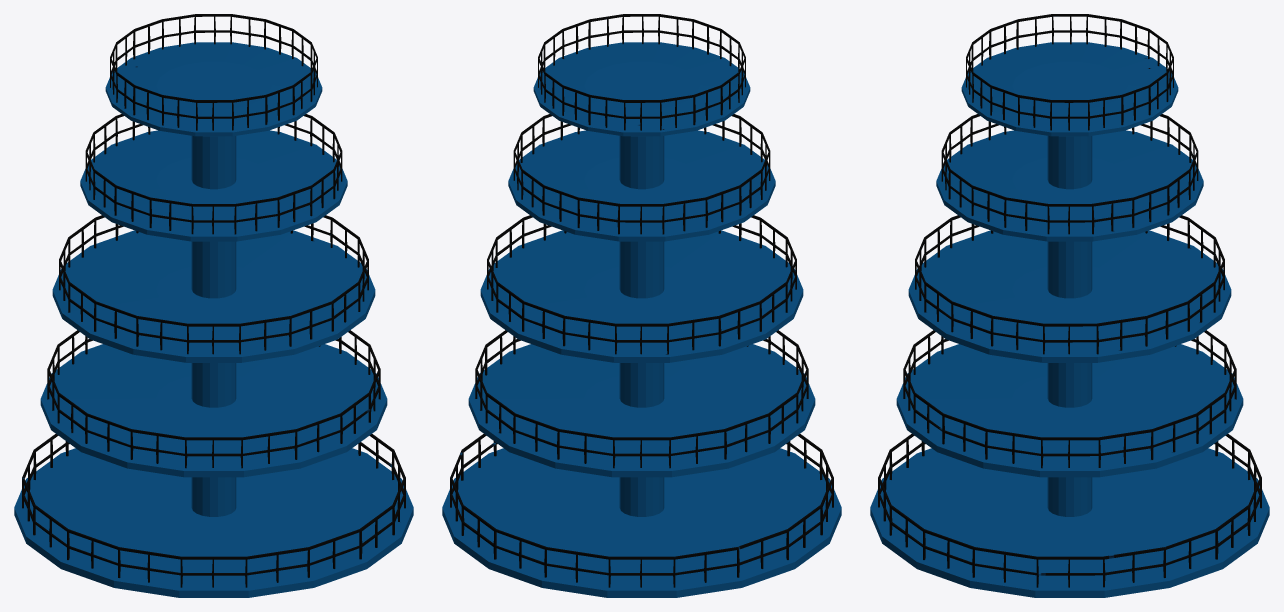
The model's file is PresentoireRond.fbx.
3 renders of one model, left to right at view 1: azimuth 30°, elevation 25°; view 2: azimuth 150°, elevation 25°; view 3: azimuth 270°, elevation 25°, orthographic.
Visible parts, largest first — view 1: présentoire rond 2.001; view 2: présentoire rond 2.001; view 3: présentoire rond 2.001.
Boxes of the visible parts, x1=… form: présentoire rond 2.001: x1=14, y1=14, x2=413, y2=597; présentoire rond 2.001: x1=442, y1=14, x2=841, y2=597; présentoire rond 2.001: x1=870, y1=14, x2=1269, y2=597.
Size of the model in its own units: 139 by 179 by 141.
